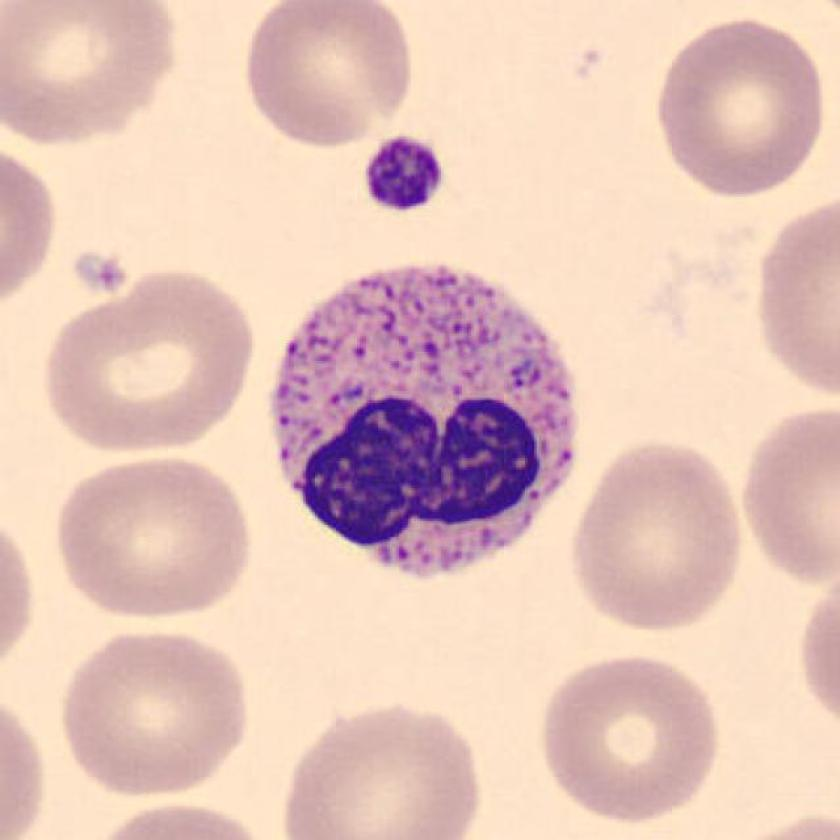neutrophil: (273, 269, 575, 575)
